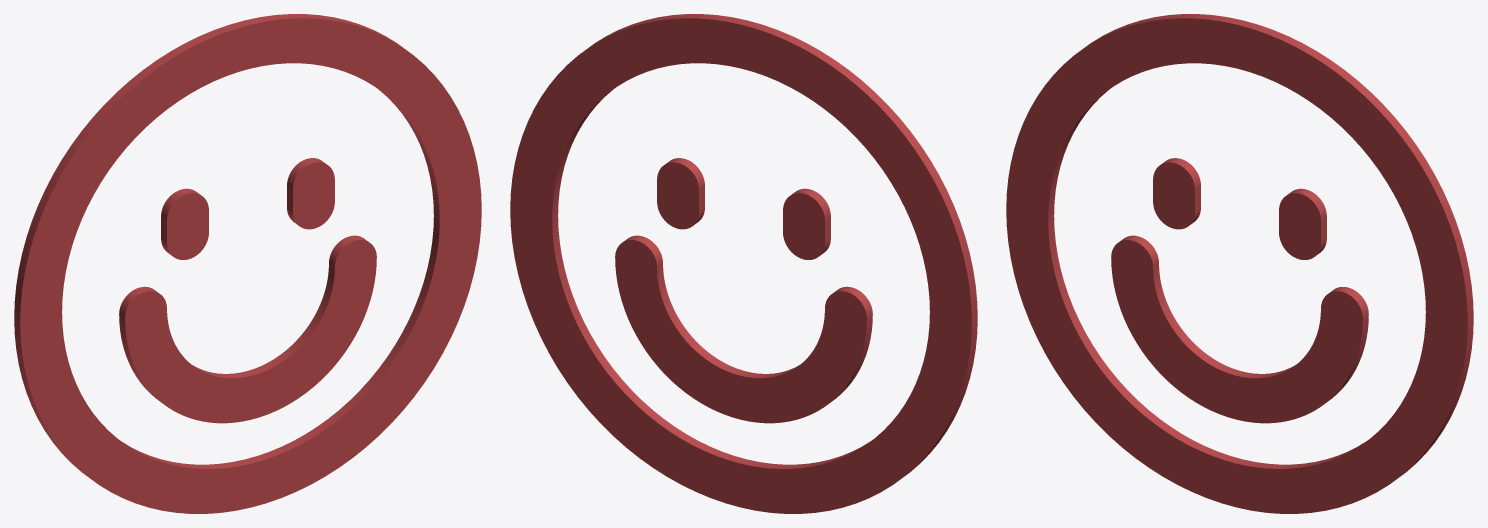
Rendered from smileMe.glb.
The picture shows the model from 3 angles, left to right: view 1: azimuth 30°, elevation 25°; view 2: azimuth 150°, elevation 25°; view 3: azimuth 330°, elevation 25°; orthographic projection.
Parts seen in each view (by area): view 1: Curve; view 2: Curve; view 3: Curve.
Part boxes in pixels (x1,y1,x2,y2): Curve: (14,14,481,513); Curve: (510,14,977,513); Curve: (1006,14,1473,513).
Size of the model in its own units: 5.08 by 5.07 by 0.1128.
